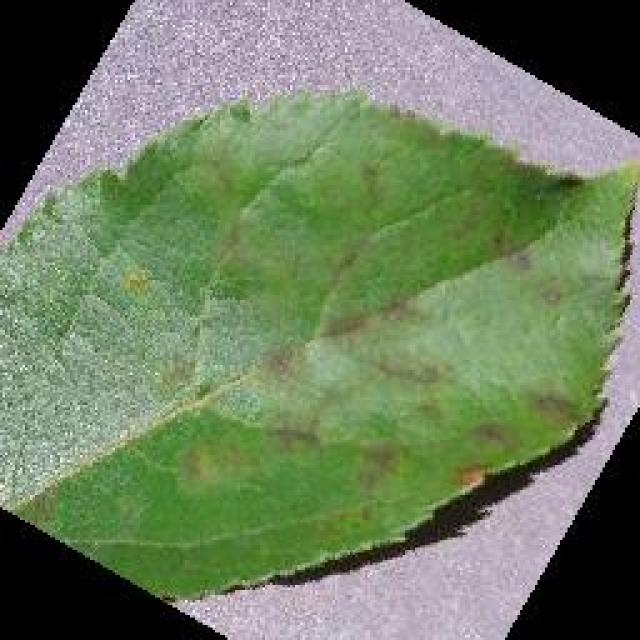apple scab disease: (0, 82, 638, 602)
